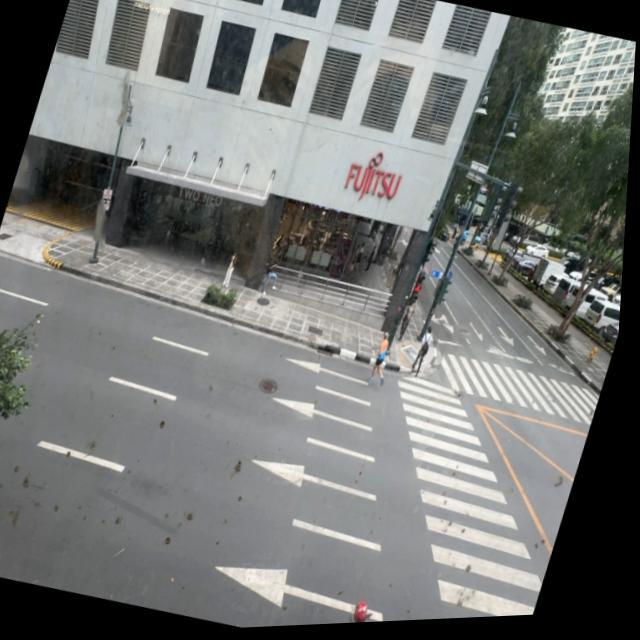jaywalking: (366, 326, 398, 384)
